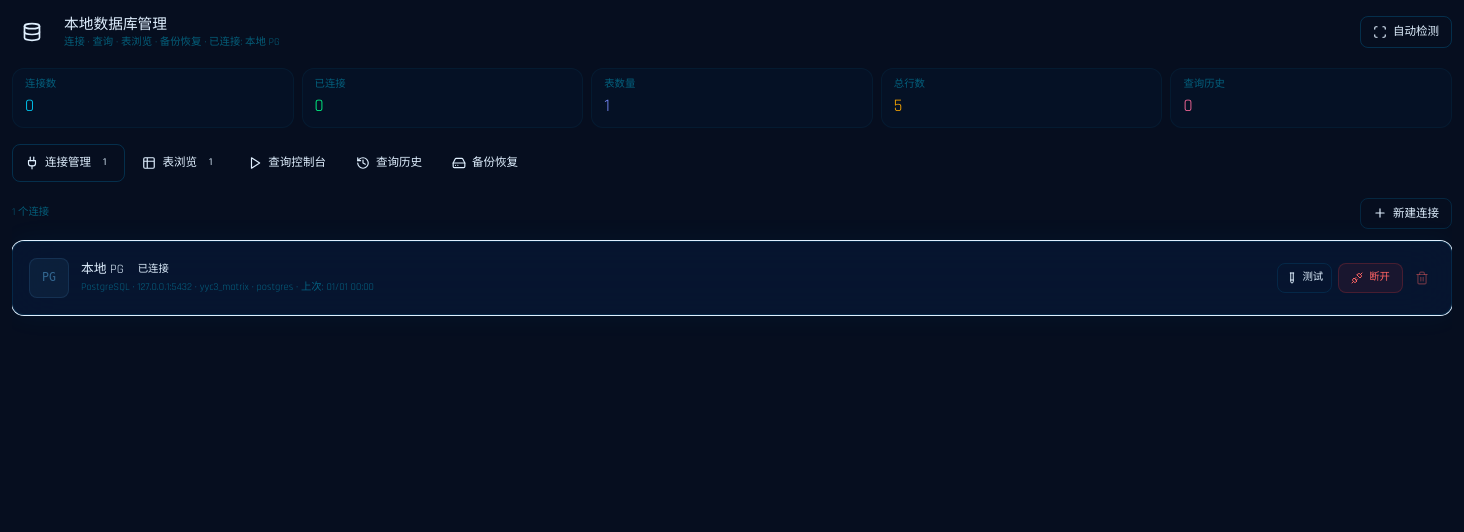
Test: DatabaseManager › 表列表应渲染并支持展开列定义与数据预览
The width and height of the screenshot is (1464, 532).
Click the button "表浏览 1" at [180, 163], box [129, 144, 231, 182]
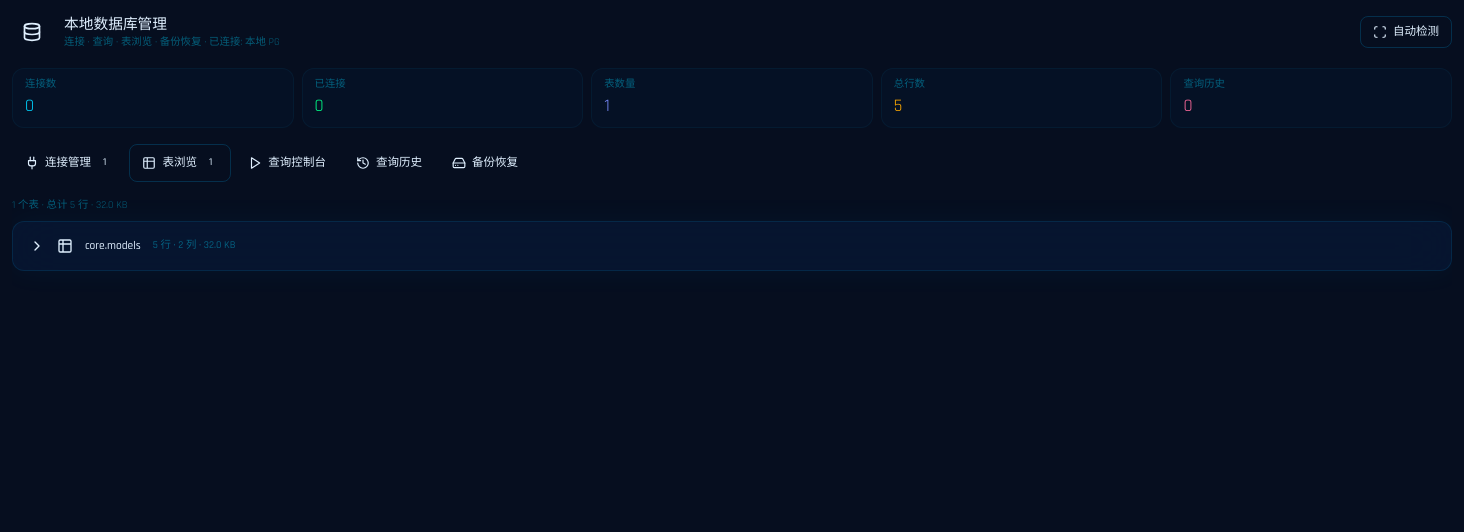
Check: the text "core.models" is shown
Check: the text "5 行 · 2 列 · 32.0 KB" is shown, box [153, 238, 235, 254]
Click the text "core.models" at [113, 246], box [85, 237, 141, 255]
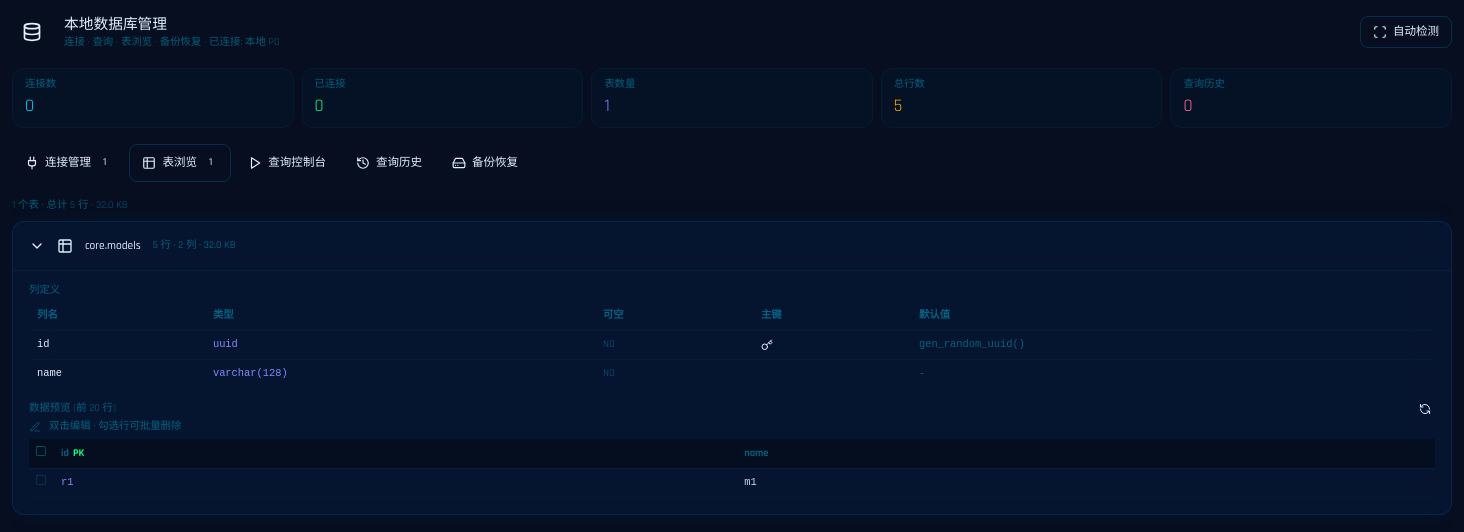
Check: the text "列定义" is shown, box [29, 283, 60, 297]
Check: the text "gen_random_uuid()" is shown, box [911, 330, 1435, 359]
Check: the text "数据预览 (前 20 行)" is shown, box [29, 402, 116, 417]
